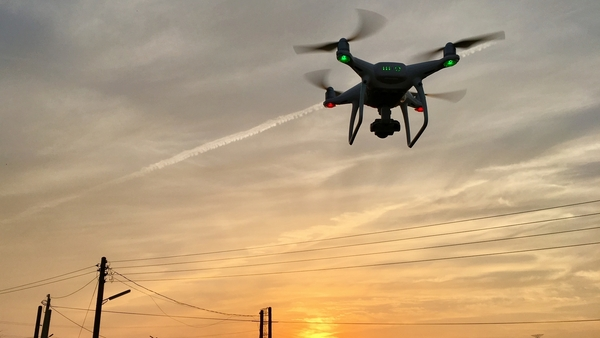drone: (291, 7, 509, 150)
